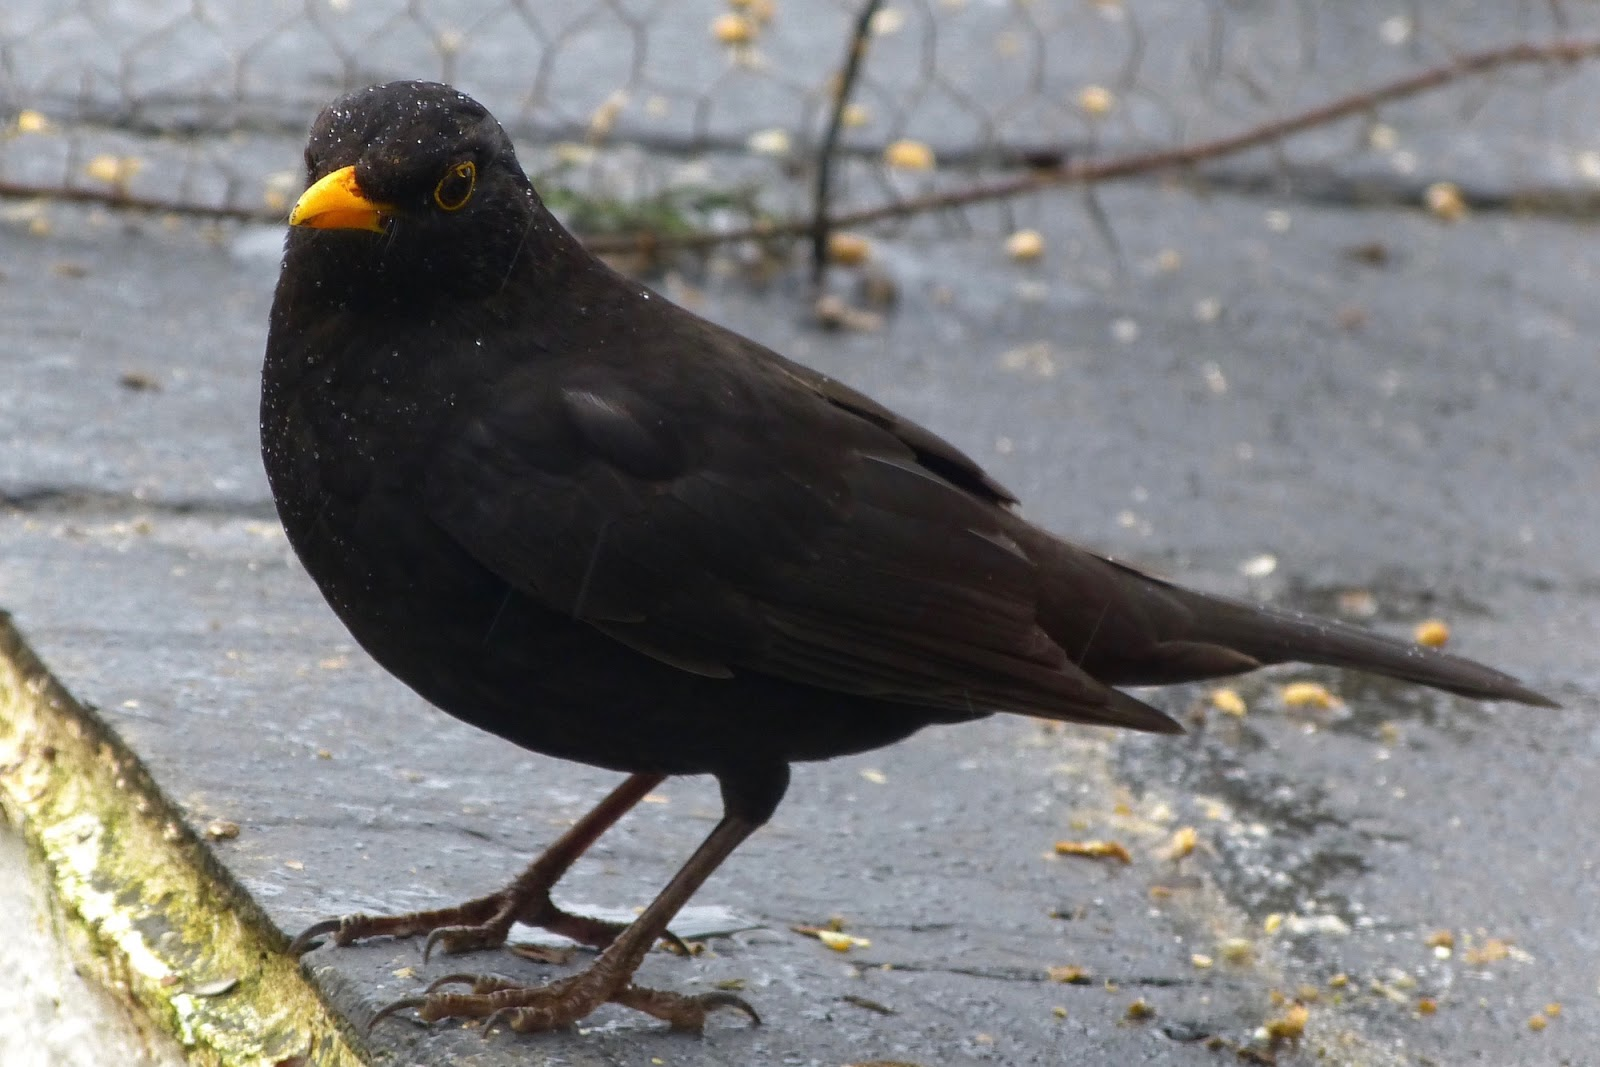bird: (254, 81, 1569, 1044)
